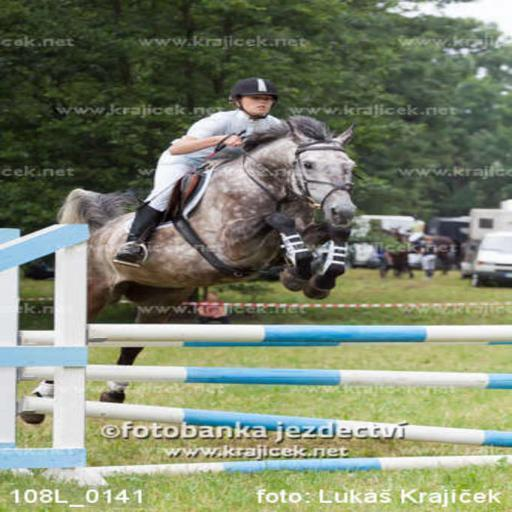horse: (18, 112, 363, 426)
